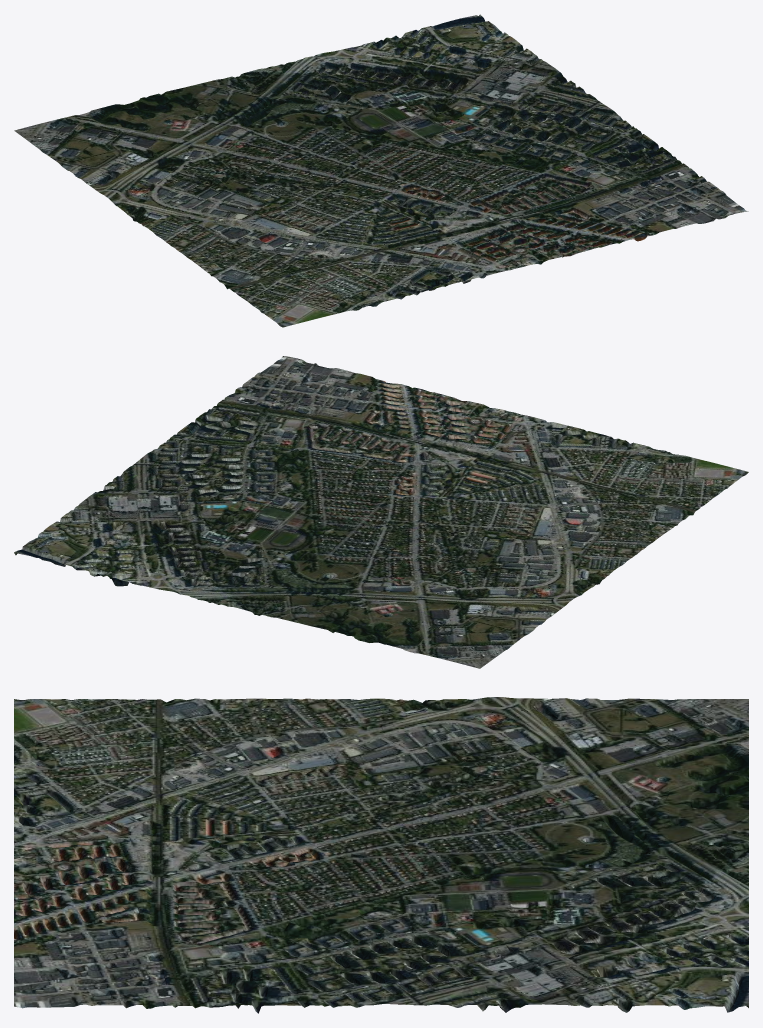
File: map_10_249_426.dae
3 views of the same model, one above another, from view 1: azimuth 30°, elevation 25°; view 2: azimuth 150°, elevation 25°; view 3: azimuth 270°, elevation 25° (orthographic). The views are drawn at different scales.
Visible parts, largest first — view 1: Ter0; view 2: Ter0; view 3: Ter0.
Part boxes in pixels (x1,y1,x2,y2): Ter0: (14,14,748,327); Ter0: (14,356,748,668); Ter0: (14,697,748,1013).
Size of the model in its own units: 2044 by 2044 by 56.39.
Materials: 2 (2 with a texture image).
